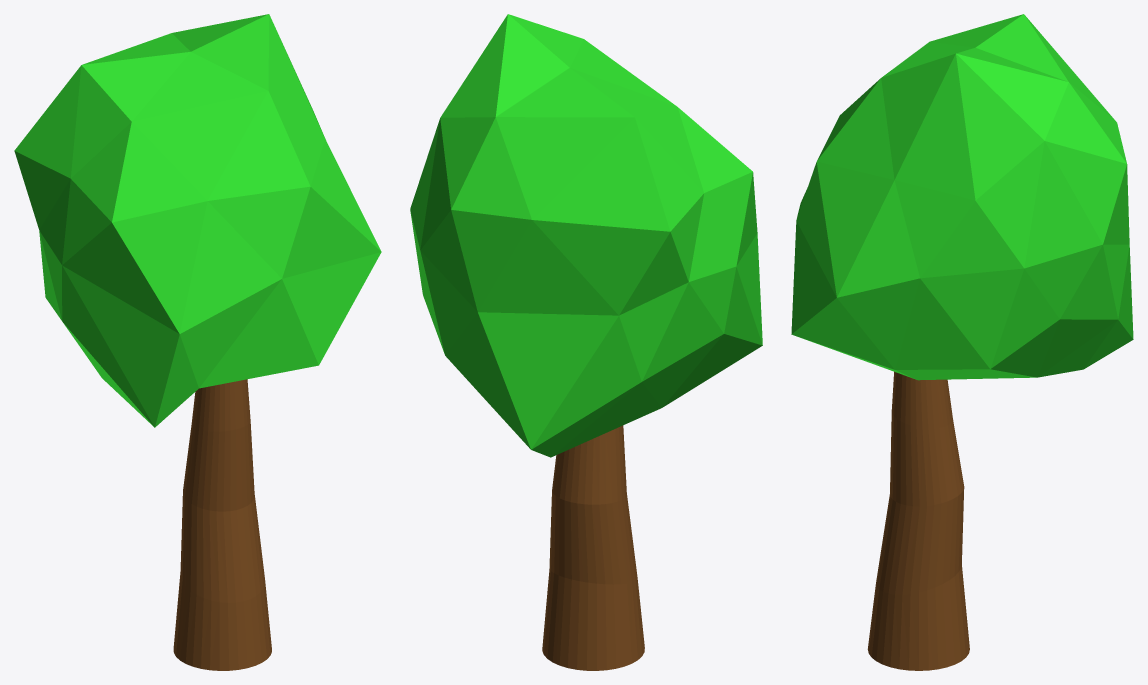
File: tree03.fbx
The picture shows the model from 3 angles, left to right: view 1: azimuth 30°, elevation 25°; view 2: azimuth 150°, elevation 25°; view 3: azimuth 270°, elevation 25°; orthographic projection. The views are drawn at different scales.
Visible parts, largest first — view 1: Tree03; view 2: Tree03; view 3: Tree03.
Boxes of the visible parts, bbox=[...] form: Tree03: bbox=[14, 14, 381, 670]; Tree03: bbox=[410, 14, 762, 670]; Tree03: bbox=[791, 14, 1133, 670].
Size of the model in its own units: 796 by 1660 by 819.
